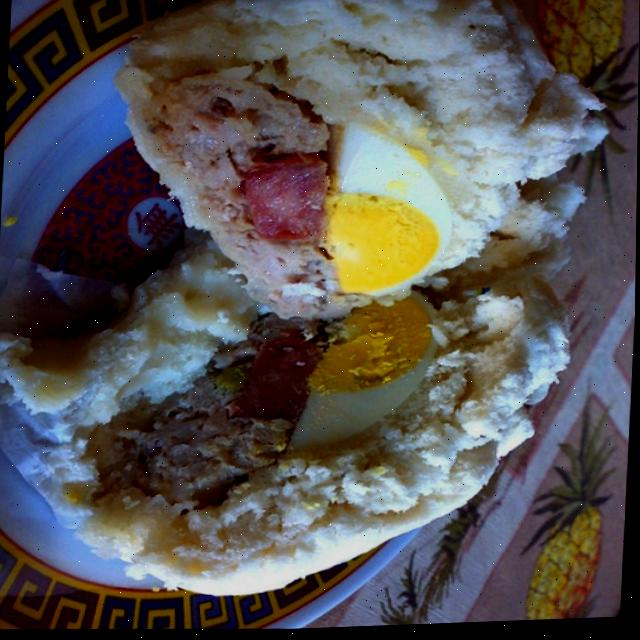带馅早点: (0, 0, 614, 601)
